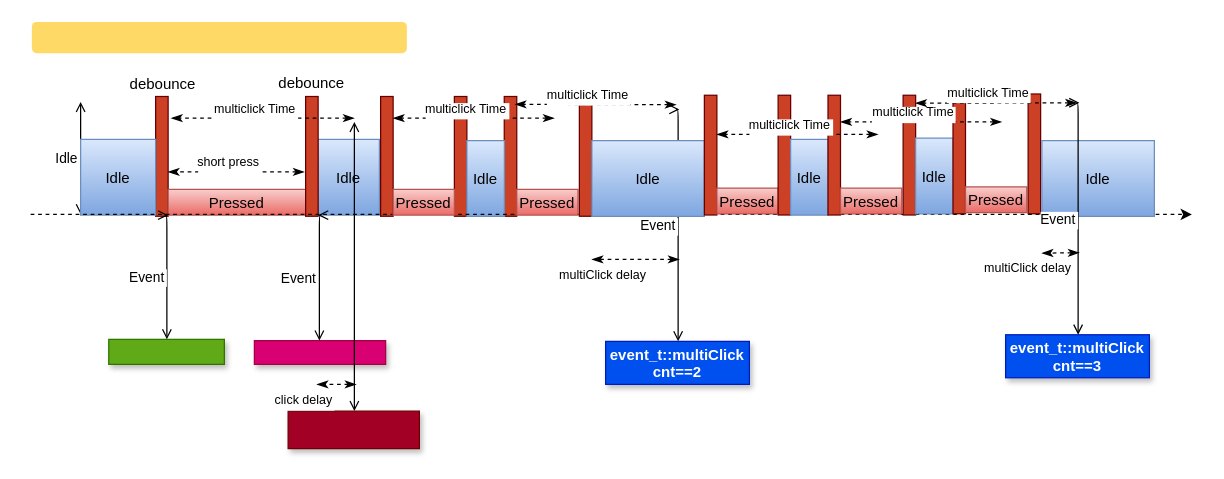
The diagram is 1224 pixels wide and 479 high, and some of its shapes have lost their labels. The centre of each missing label's shape, as x and y in pixels:
Click/Mutliclick operation: (x=218, y=36)
event_t::click: (x=354, y=431)
event_t::press: (x=167, y=353)
event_t::release: (x=320, y=353)
